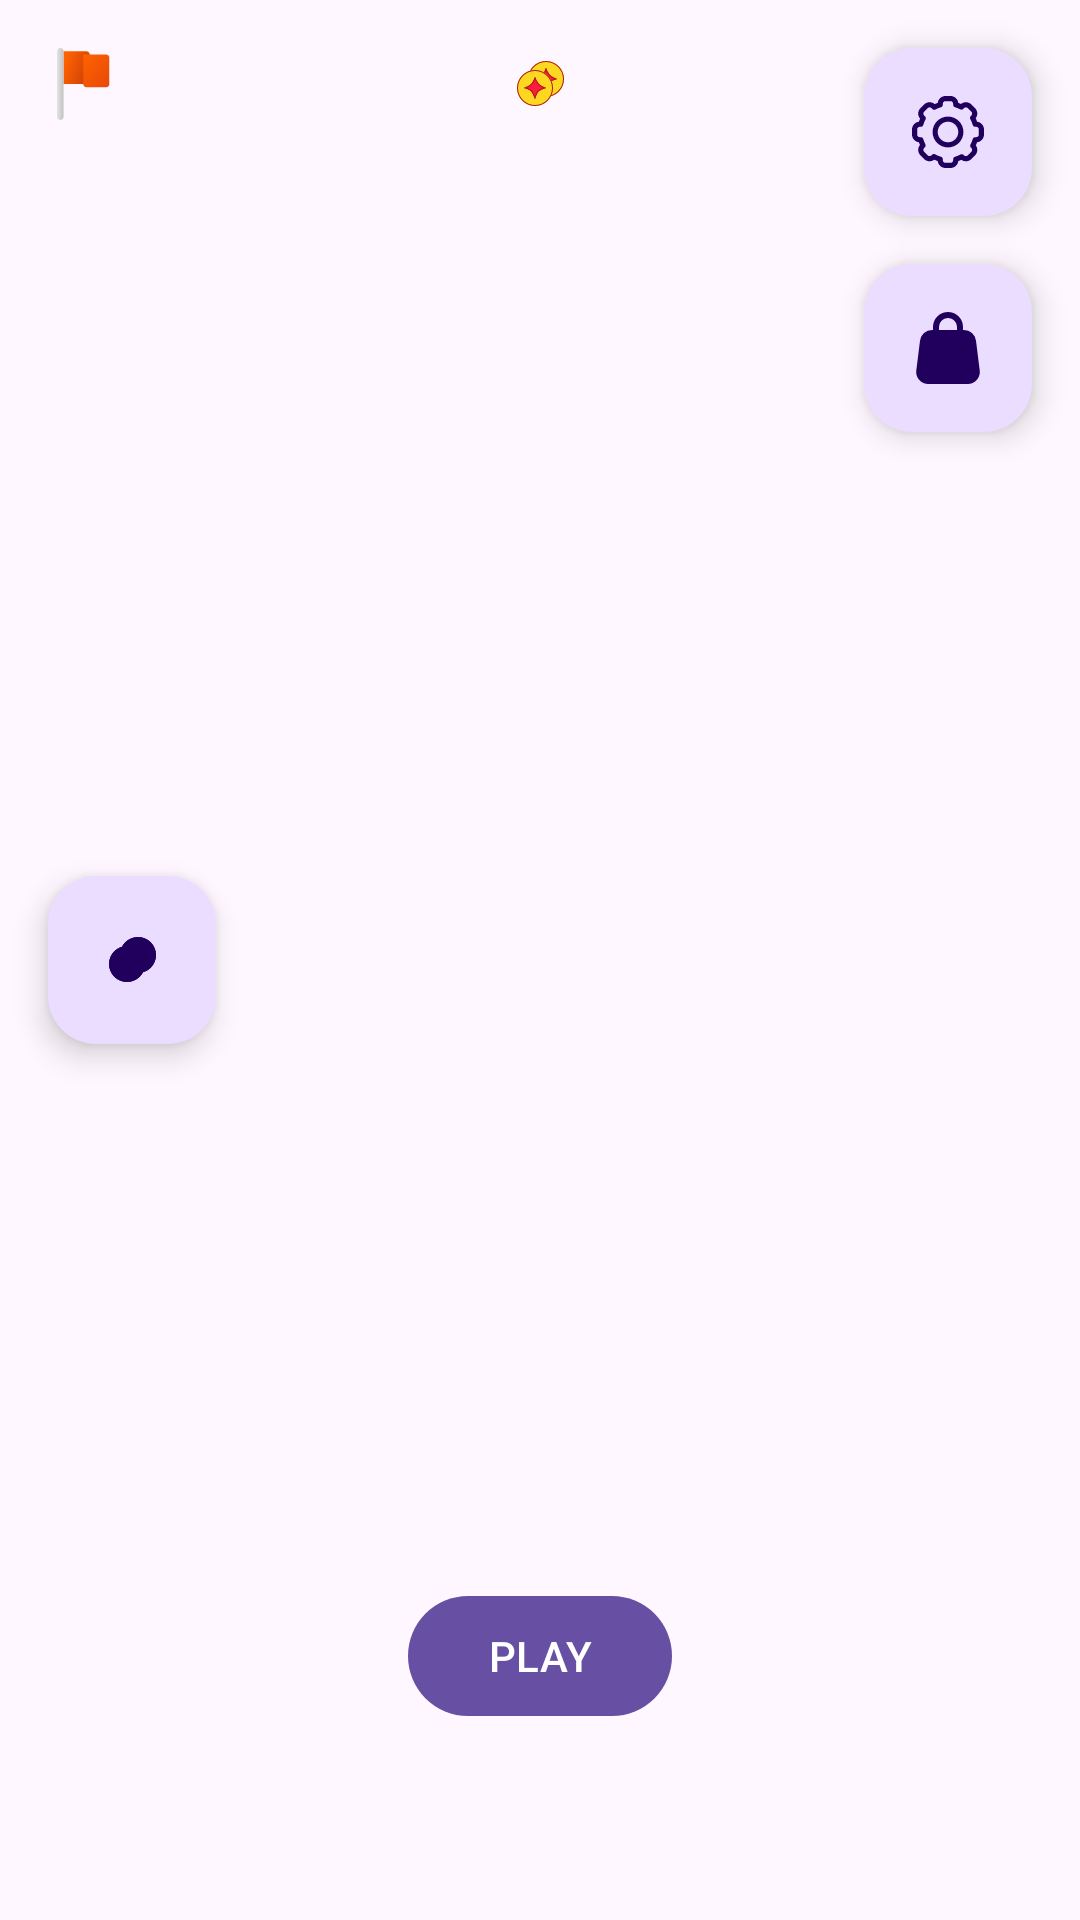

Icons on this 1080 × 1920 Android screen, each with the point to tap as (x,y):
configuration: (948,132)
store: (948,348)
